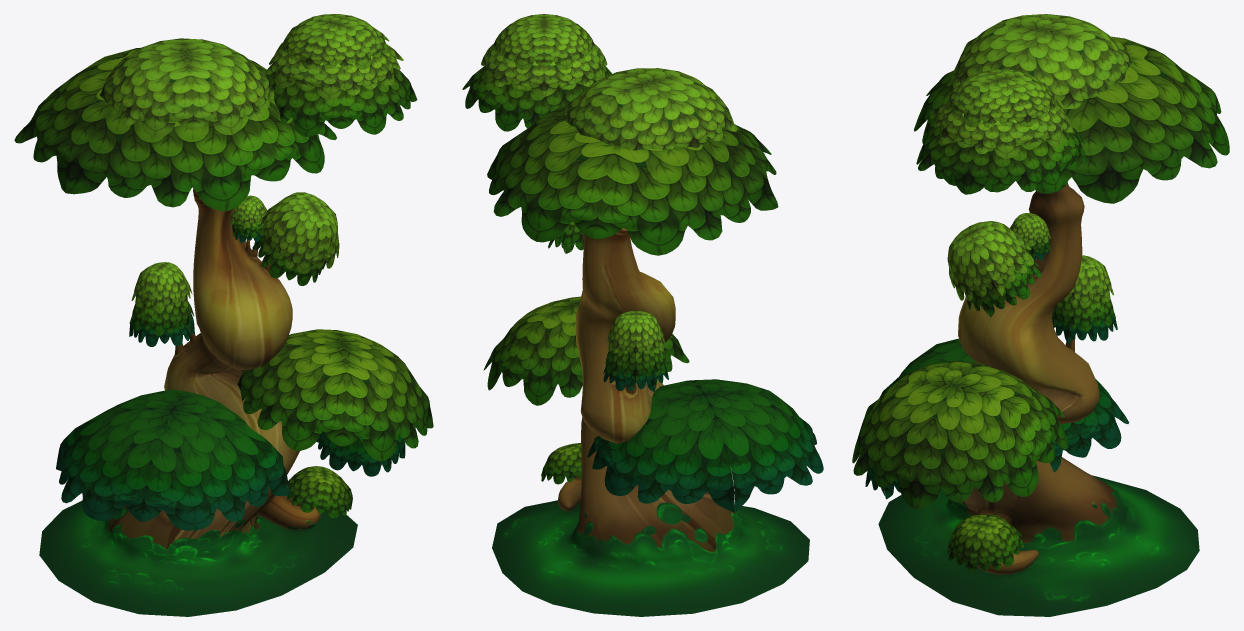
The model's file is tree2.obj.
3 views of the same model, side by side, from view 1: azimuth 30°, elevation 25°; view 2: azimuth 150°, elevation 25°; view 3: azimuth 270°, elevation 25° (orthographic). The views are drawn at different scales.
Visible parts, largest first — view 1: Tree2_Line002; view 2: Tree2_Line002; view 3: Tree2_Line002.
Boxes of the visible parts, left/top/right/bottom form: Tree2_Line002: left=14, top=14, right=433, bottom=616; Tree2_Line002: left=462, top=14, right=823, bottom=616; Tree2_Line002: left=852, top=14, right=1229, bottom=616.
Size of the model in its own units: 4.06 by 5.7 by 3.71.
1 material, 1 textured.
